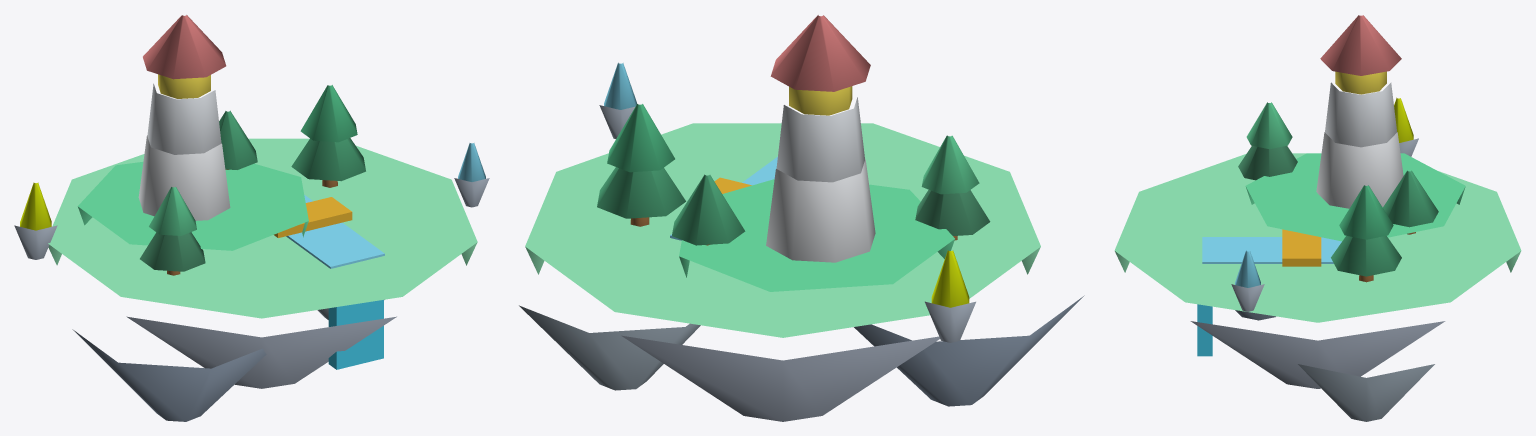
Rendered from gamedev-island.glb.
3 renders of one model, left to right at view 1: azimuth 30°, elevation 25°; view 2: azimuth 150°, elevation 25°; view 3: azimuth 270°, elevation 25°, orthographic. The views are drawn at different scales.
Parts seen in each view (by area): view 1: Grass_Top_Main, Grass_Terrace, Rock_Cliff_Main, Rock_Cliff_Sub1, Tower_Base, Tower_Mid, Tower_Roof, River_Stream, Pine1_Crown1, Waterfall_Drop, Pine1_Crown2, Pine2_Crown1 (+8 smaller); view 2: Grass_Top_Main, Grass_Terrace, Rock_Cliff_Main, Tower_Base, Rock_Cliff_Sub1, Tower_Mid, Rock_Cliff_Sub2, Tower_Roof, Pine1_Crown1, Pine3_Crown1, Pine1_Crown2, Pine2_Crown1 (+6 smaller); view 3: Grass_Top_Main, Grass_Terrace, Rock_Cliff_Main, Tower_Base, Rock_Cliff_Sub2, Tower_Mid, Tower_Roof, River_Stream, Pine1_Crown1, Pine3_Crown1, Pine1_Crown2, Pine2_Crown1 (+7 smaller).
Boxes of the visible parts, x1,y1,x2,y2 form: Grass_Top_Main: [48, 138, 477, 318]; Grass_Terrace: [77, 162, 308, 250]; Rock_Cliff_Main: [126, 316, 396, 388]; Rock_Cliff_Sub1: [72, 329, 266, 421]; Tower_Base: [138, 135, 230, 220]; Tower_Mid: [147, 83, 221, 154]; Tower_Roof: [143, 15, 226, 79]; River_Stream: [286, 195, 384, 268]; Pine1_Crown1: [291, 138, 365, 181]; Waterfall_Drop: [328, 300, 383, 369]; Pine1_Crown2: [300, 85, 357, 142]; Pine2_Crown1: [140, 232, 205, 271]; Grass_Top_Main: [525, 123, 1040, 337]; Grass_Terrace: [679, 179, 954, 291]; Rock_Cliff_Main: [621, 335, 939, 421]; Tower_Base: [766, 159, 875, 262]; Rock_Cliff_Sub1: [854, 295, 1084, 406]; Tower_Mid: [776, 97, 864, 182]; Rock_Cliff_Sub2: [519, 305, 700, 390]; Tower_Roof: [770, 15, 870, 91]; Pine1_Crown1: [597, 167, 685, 218]; Pine3_Crown1: [672, 174, 745, 245]; Pine1_Crown2: [607, 103, 674, 172]; Pine2_Crown1: [915, 190, 990, 235]; Grass_Top_Main: [1114, 153, 1521, 322]; Grass_Terrace: [1245, 153, 1465, 241]; Rock_Cliff_Main: [1190, 321, 1445, 388]; Tower_Base: [1316, 132, 1403, 208]; Rock_Cliff_Sub2: [1298, 364, 1434, 421]; Tower_Mid: [1325, 82, 1396, 147]; Tower_Roof: [1320, 15, 1401, 75]; River_Stream: [1202, 237, 1341, 263]; Pine1_Crown1: [1331, 235, 1401, 276]; Pine3_Crown1: [1383, 170, 1438, 227]; Pine1_Crown2: [1339, 185, 1393, 239]; Pine2_Crown1: [1238, 146, 1297, 180].
Size of the model in its own units: 4 by 3.37 by 3.78.
